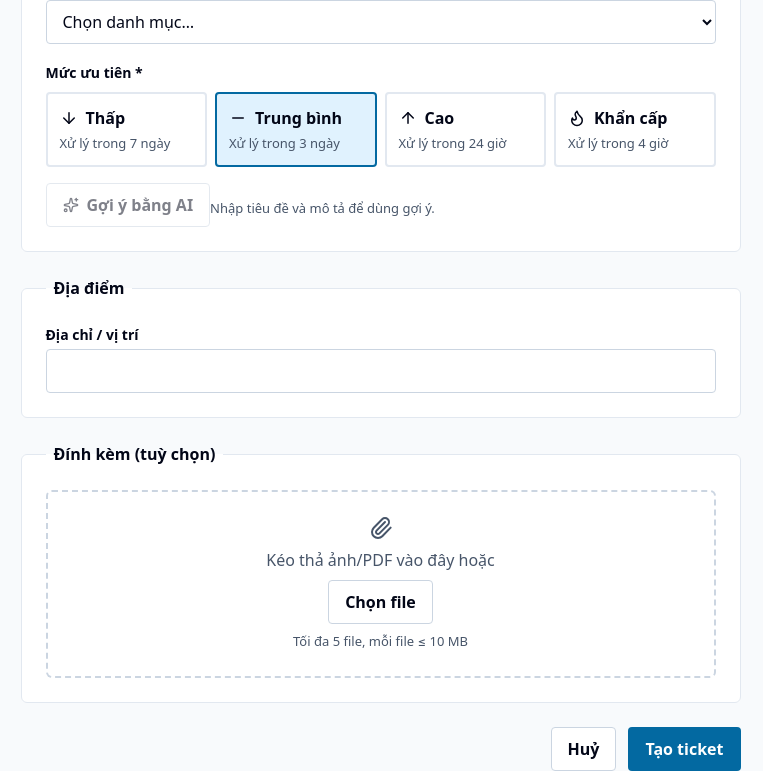
TicketCreate › shows an error summary with specific messages when several fields are invalid
(page scrolled)
Click the button "Tạo ticket" at (684, 749), box [628,727,740,770]
(page scrolled)
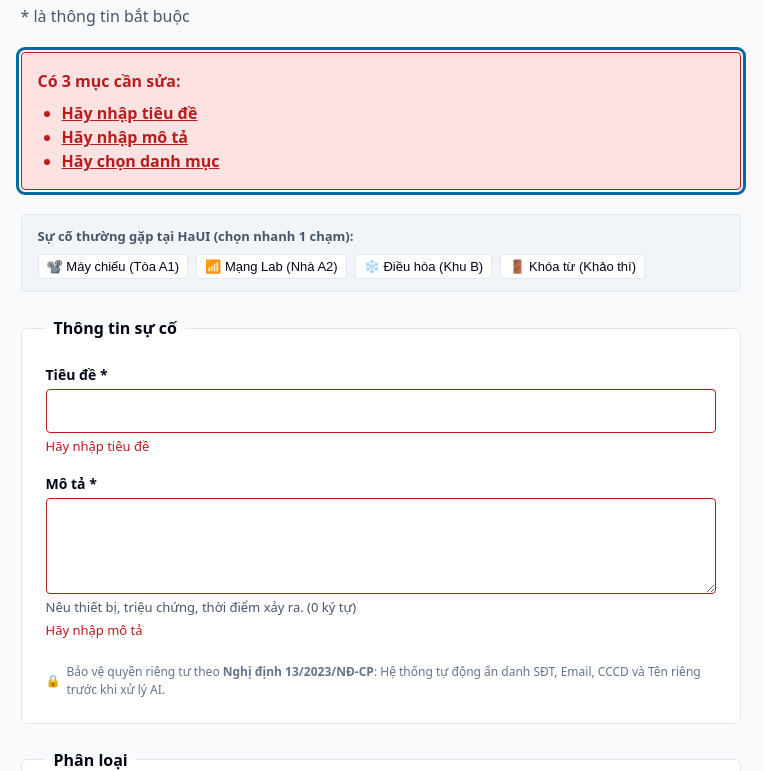
Expected: the text "Có 3 mục cần sửa:" is shown, [38,70,181,92]
Expected: the link "Hãy nhập tiêu đề" is shown, [62,102,197,124]
